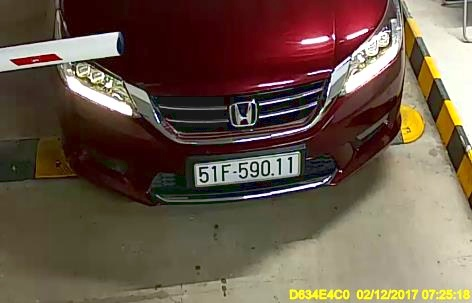plate: (190, 151, 309, 192)
